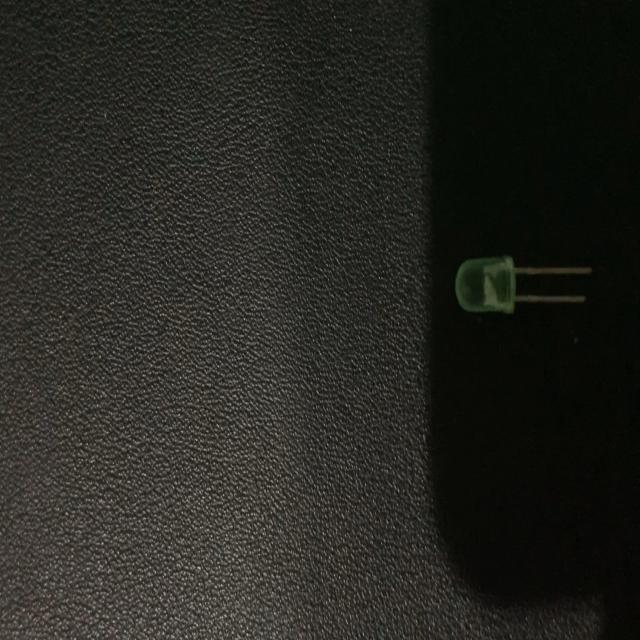LED: (452, 249, 595, 316)
